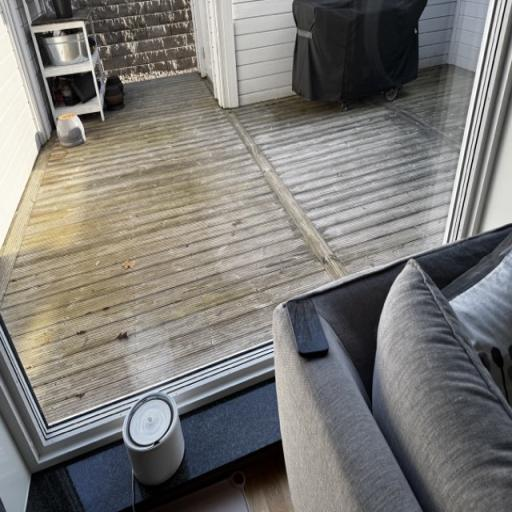phone: (286, 294, 337, 380)
